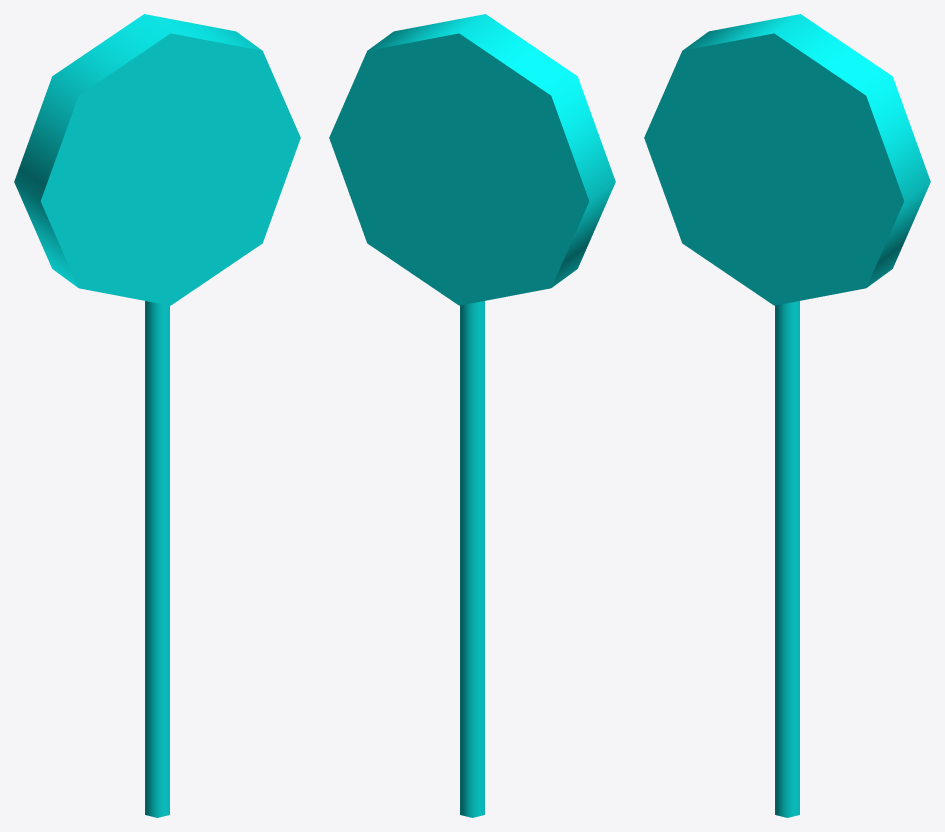
Rendered from Piruleta LP.fbx.
The picture shows the model from 3 angles, left to right: view 1: azimuth 30°, elevation 25°; view 2: azimuth 150°, elevation 25°; view 3: azimuth 330°, elevation 25°; orthographic projection.
Parts seen in each view (by area): view 1: Piruleta LP; view 2: Piruleta LP; view 3: Piruleta LP.
Part boxes in pixels (x1,y1,x2,y2): Piruleta LP: (14,14,300,817); Piruleta LP: (329,14,615,817); Piruleta LP: (644,14,930,817).
Bounding box in the file's own units: 336 × 971 × 59.17.
